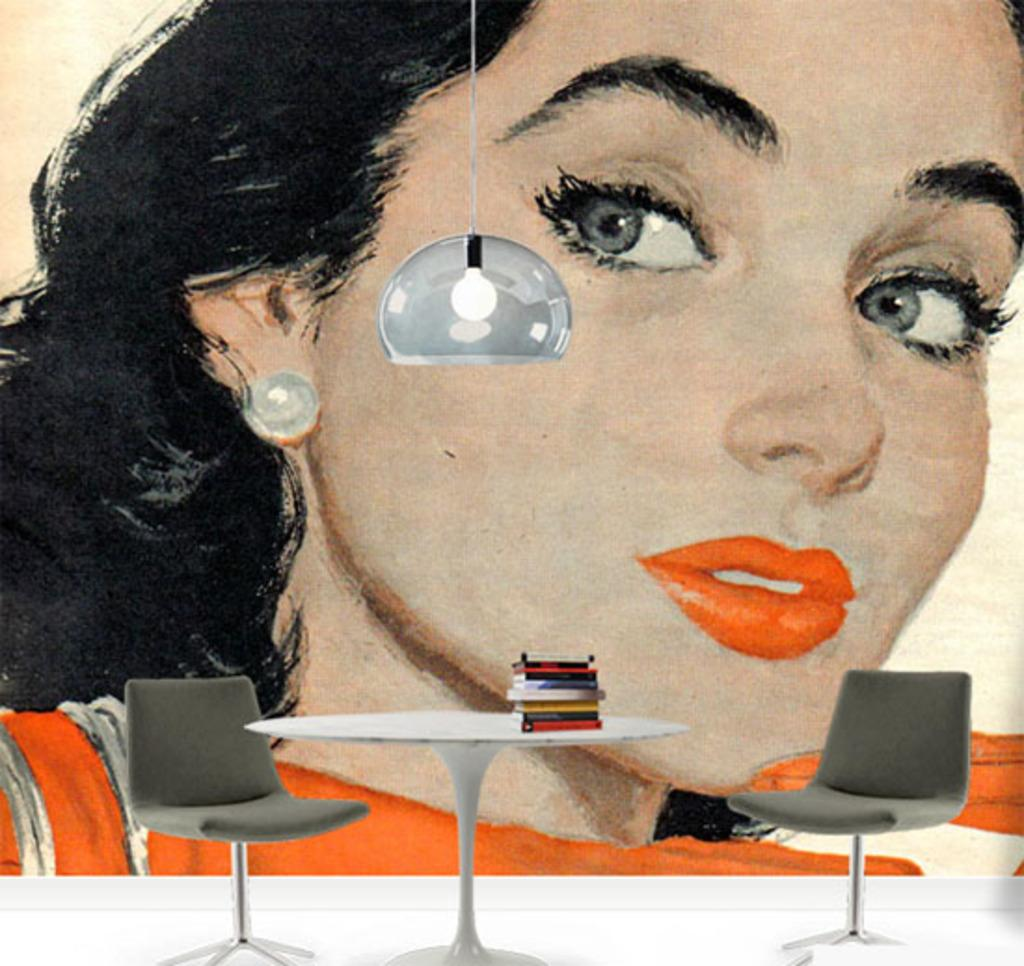Chair: (122, 674, 369, 965), (726, 668, 972, 954)
